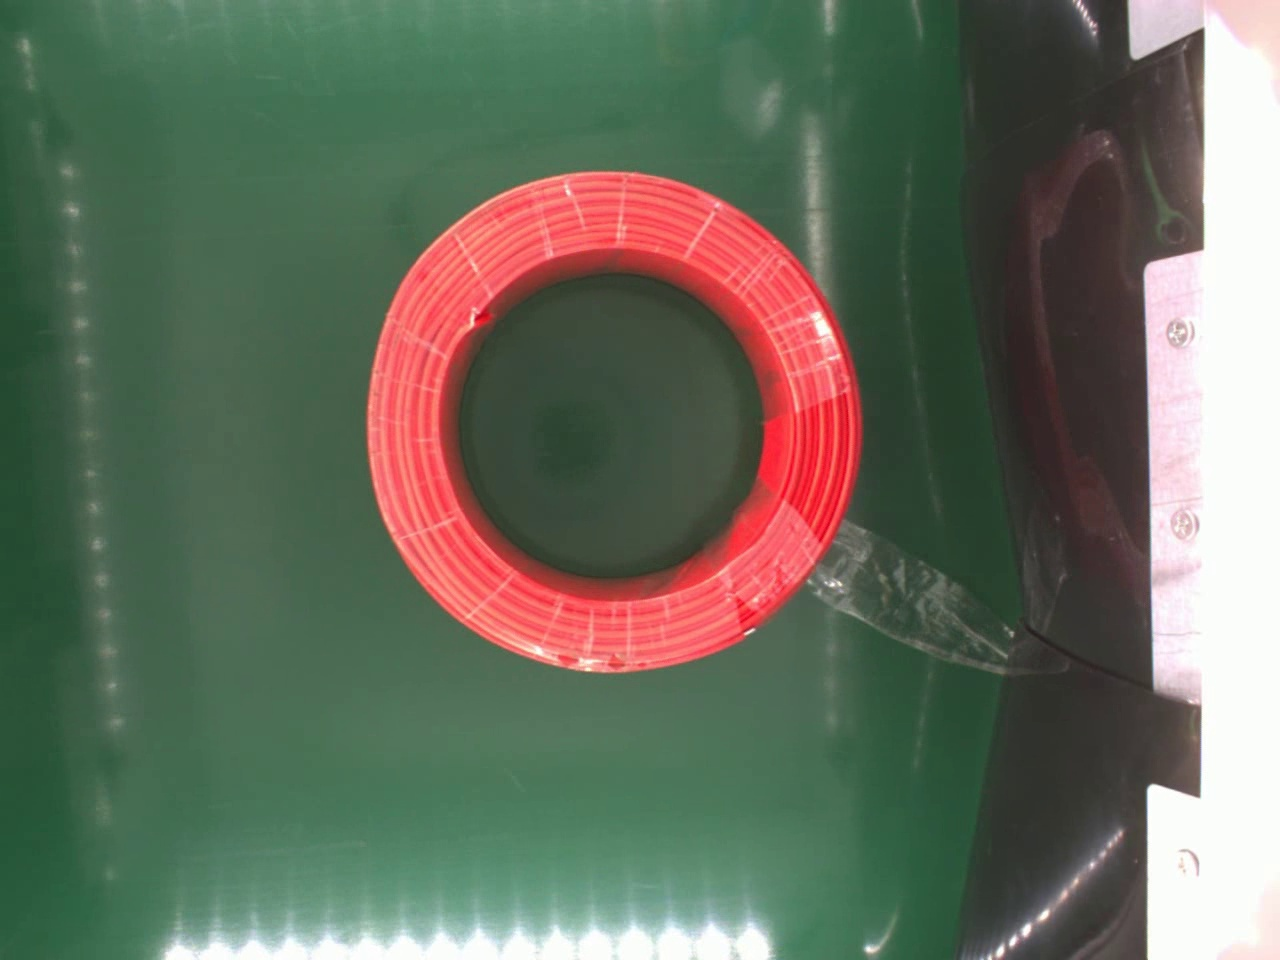red: (363, 167, 864, 675)
